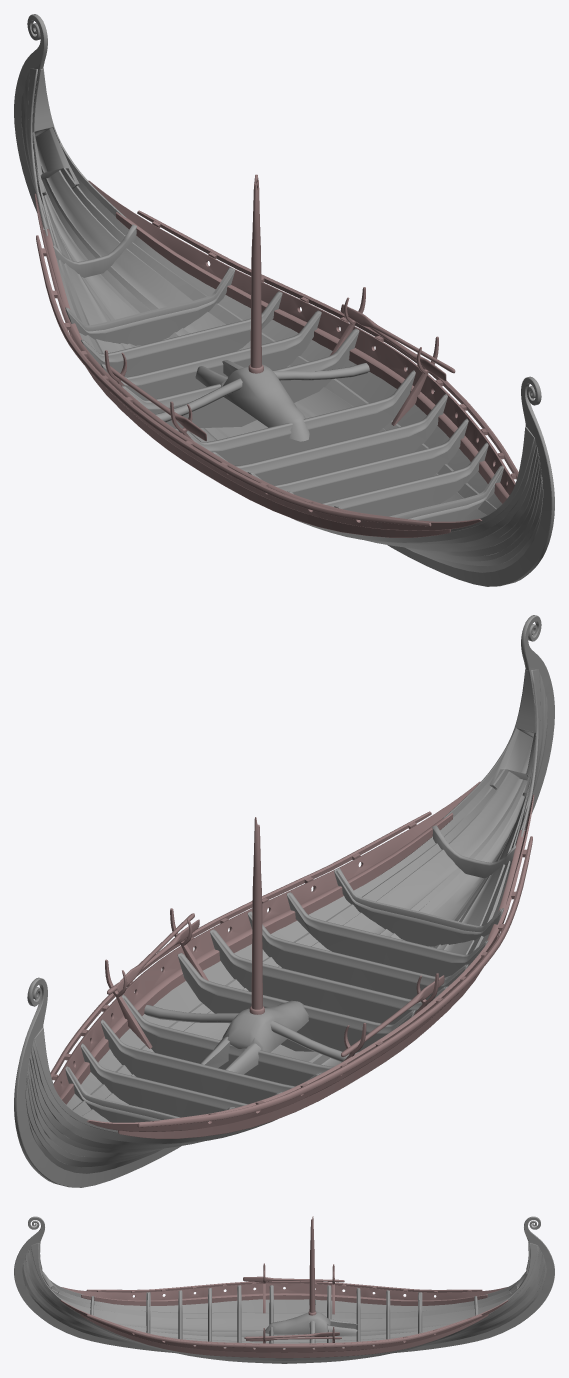
File: Ship_main.FBX
The picture shows the model from 3 angles, top to bottom: view 1: azimuth 30°, elevation 25°; view 2: azimuth 150°, elevation 25°; view 3: azimuth 270°, elevation 25°; orthographic projection. The views are drawn at different scales.
Parts seen in each view (by area): view 1: Ship_main; view 2: Ship_main; view 3: Ship_main.
Part boxes in pixels (bbox=[...]): Ship_main: bbox=[14, 14, 554, 586]; Ship_main: bbox=[14, 615, 554, 1187]; Ship_main: bbox=[14, 1216, 554, 1363].
Bounding box in the file's own units: 165 × 163 × 574.
